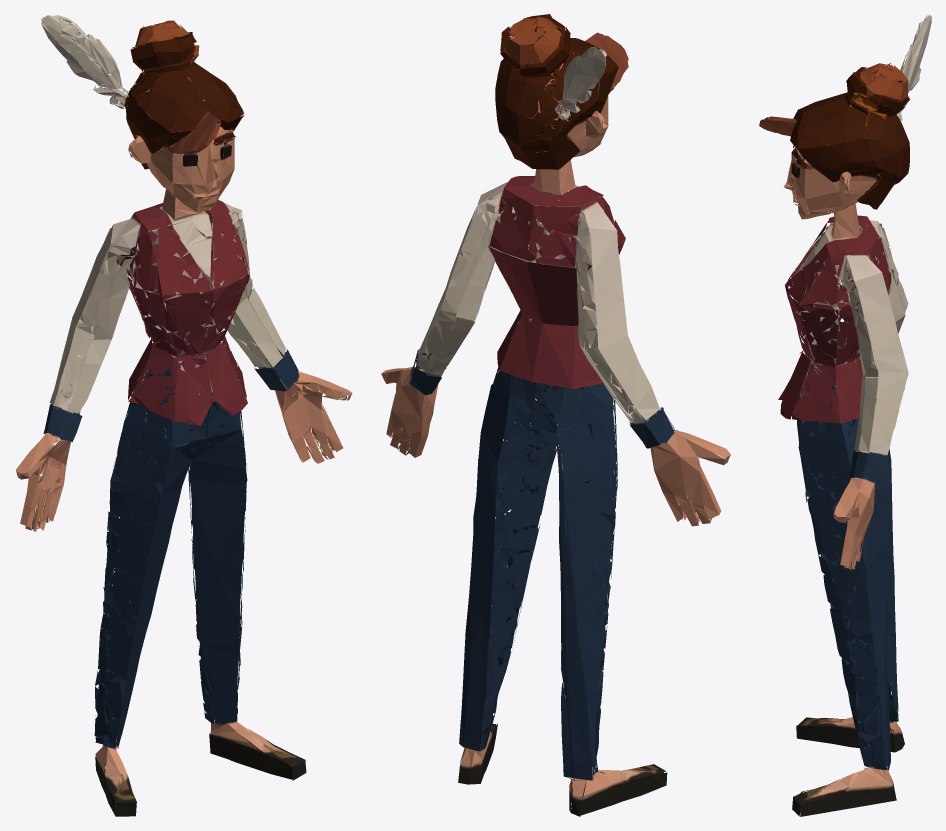
3 views of the same model, side by side, from view 1: azimuth 30°, elevation 25°; view 2: azimuth 150°, elevation 25°; view 3: azimuth 270°, elevation 25° (orthographic). The views are drawn at different scales.
Parts seen in each view (by area): view 1: world; view 2: world; view 3: world.
Boxes of the visible parts, bbox=[...] form: world: bbox=[16, 15, 352, 816]; world: bbox=[381, 14, 730, 816]; world: bbox=[759, 14, 931, 816].
Bounding box in the file's own units: 0.4606 × 1 × 0.2189.
Materials: 1 (1 with a texture image).
